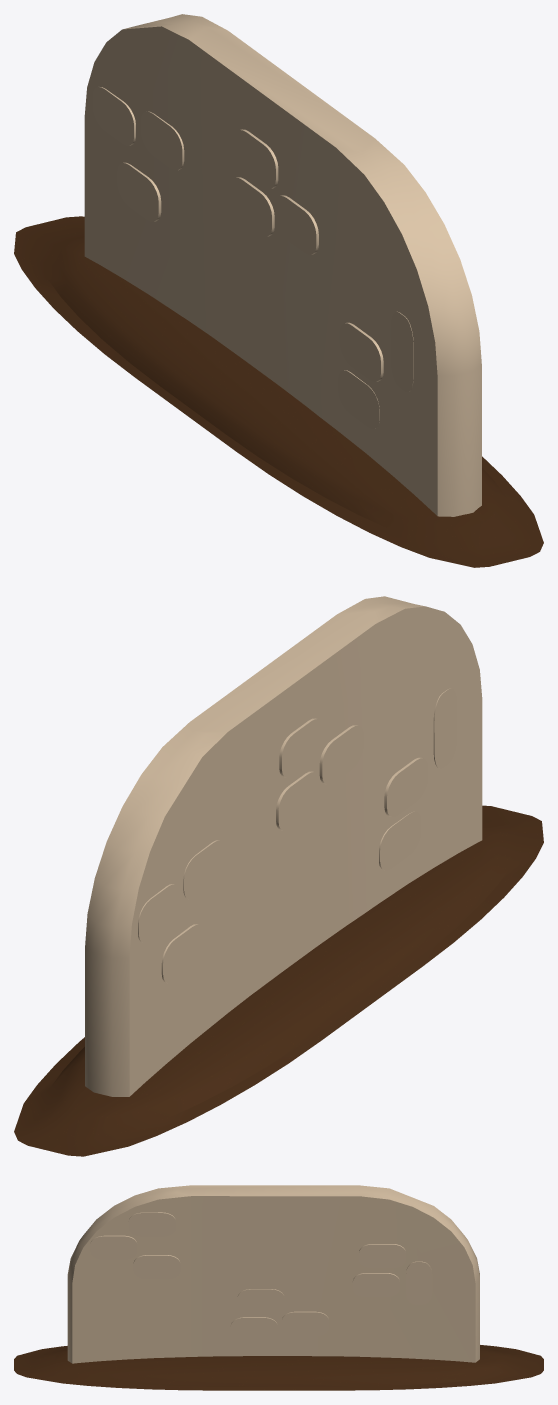
File: wall2.glb
3 views of the same model, one above another, from view 1: azimuth 30°, elevation 25°; view 2: azimuth 150°, elevation 25°; view 3: azimuth 270°, elevation 25° (orthographic). The views are drawn at different scales.
Parts seen in each view (by area): view 1: wall 2; view 2: wall 2; view 3: wall 2.
Part boxes in pixels (x1,y1,x2,y2): wall 2: [14, 14, 543, 567]; wall 2: [14, 596, 543, 1156]; wall 2: [14, 1185, 543, 1390].
Bounding box in the file's own units: 1.43 × 2.25 × 6.2.
Materials: 1 (1 with a texture image).
